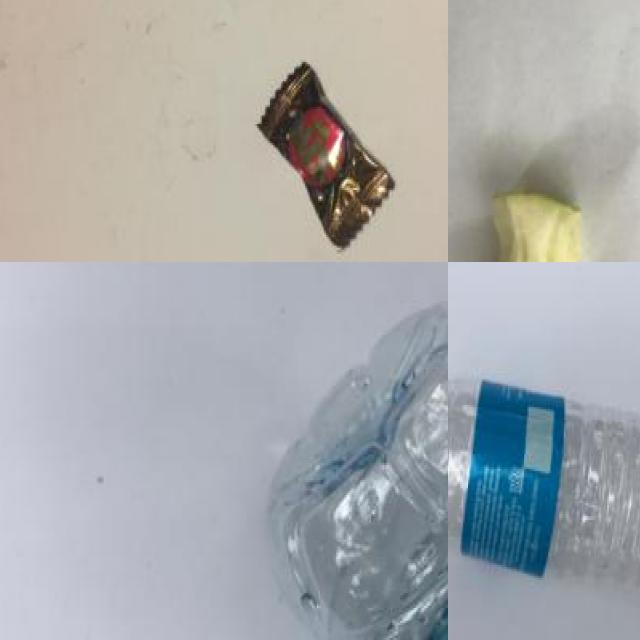compost: (457, 162, 623, 262)
plastic: (262, 283, 448, 640), (448, 362, 640, 624)
trash: (246, 41, 419, 260)
